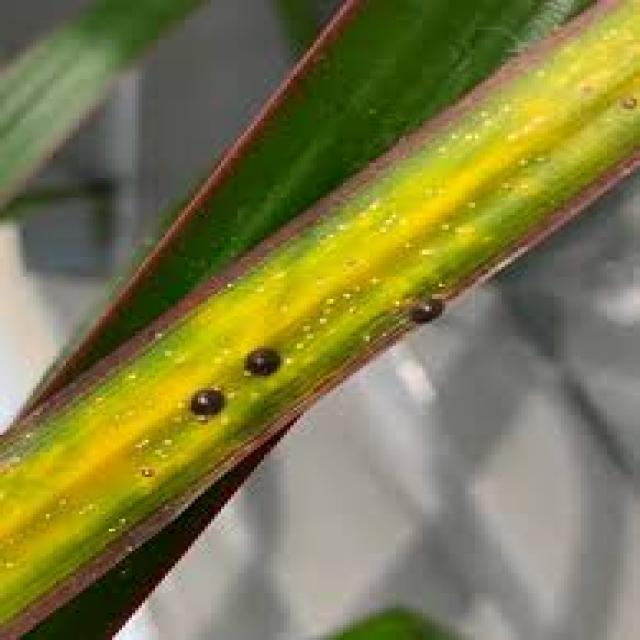scale_insect: (234, 339, 284, 378), (400, 286, 446, 328), (182, 381, 228, 415)
